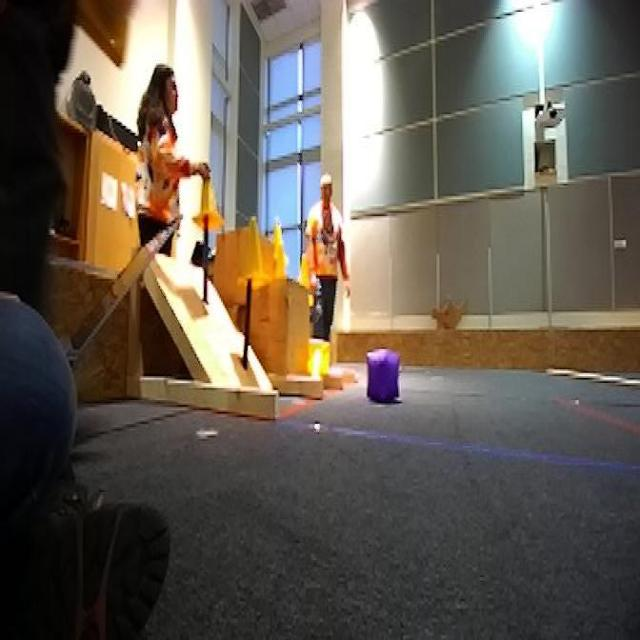frc_cone: (74, 0, 134, 70), (240, 218, 271, 296), (193, 167, 227, 238), (306, 339, 331, 383), (270, 218, 290, 269), (274, 242, 289, 277)
frc_cube: (366, 345, 402, 407)
